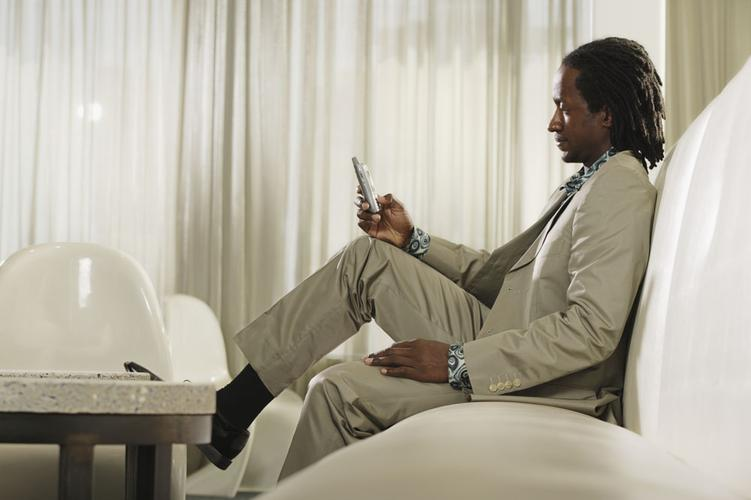reading: (343, 154, 412, 247)
